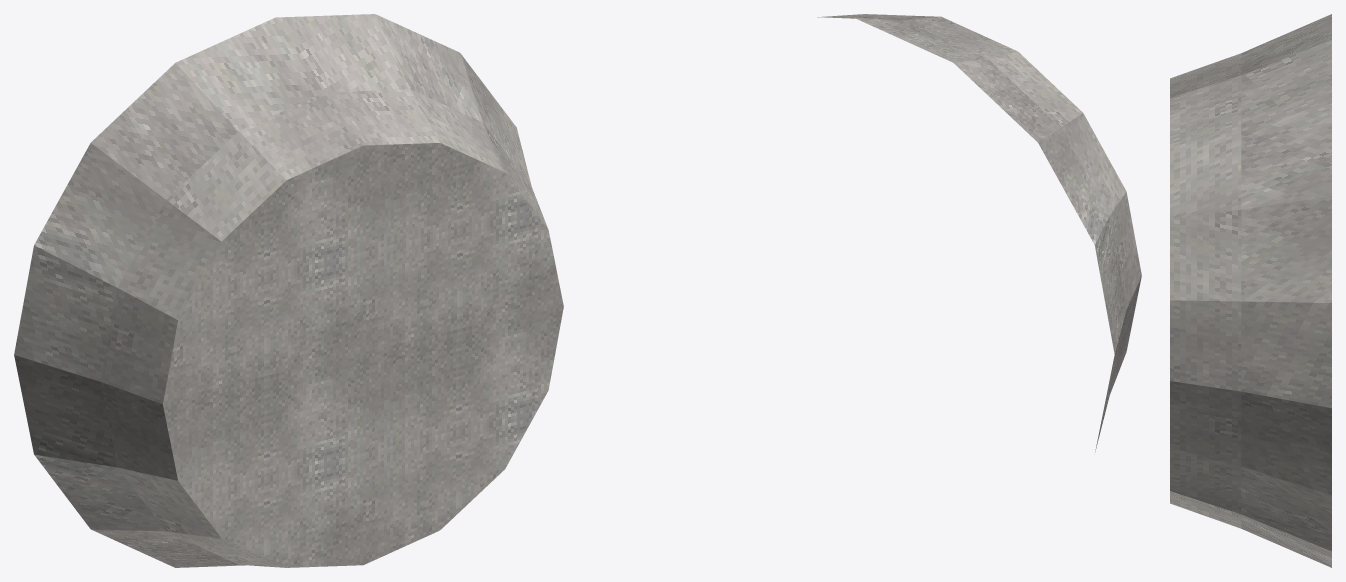
The model's file is jc-sj-979-geode.glb.
3 views of the same model, side by side, from view 1: azimuth 30°, elevation 25°; view 2: azimuth 150°, elevation 25°; view 3: azimuth 270°, elevation 25° (orthographic). The views are drawn at different scales.
Parts seen in each view (by area): view 1: Node; view 2: Node; view 3: Node.
Part boxes in pixels (<box>): Node: <box>14,14,563,567</box>; Node: <box>817,14,1141,452</box>; Node: <box>1170,14,1331,567</box>.
Size of the model in its own units: 0.4438 by 0.4438 by 0.1294.
Materials: 1 (1 with a texture image).
